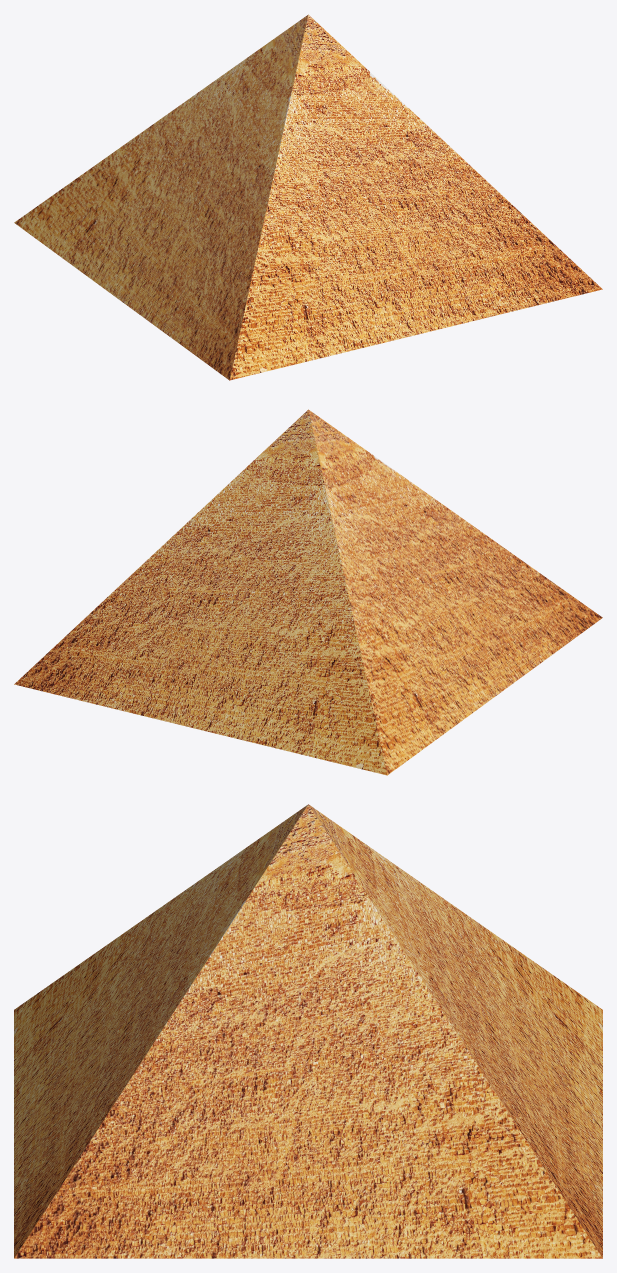
3 renders of one model, top to bottom at view 1: azimuth 30°, elevation 25°; view 2: azimuth 150°, elevation 25°; view 3: azimuth 270°, elevation 25°, orthographic. The views are drawn at different scales.
Parts seen in each view (by area): view 1: Cone; view 2: Cone; view 3: Cone.
Part boxes in pixels (x1,y1,x2,y2): Cone: [14, 14, 602, 380]; Cone: [14, 409, 602, 775]; Cone: [14, 804, 602, 1258].
Size of the model in its own units: 13.16 by 8.14 by 13.16.
1 material, 1 textured.
